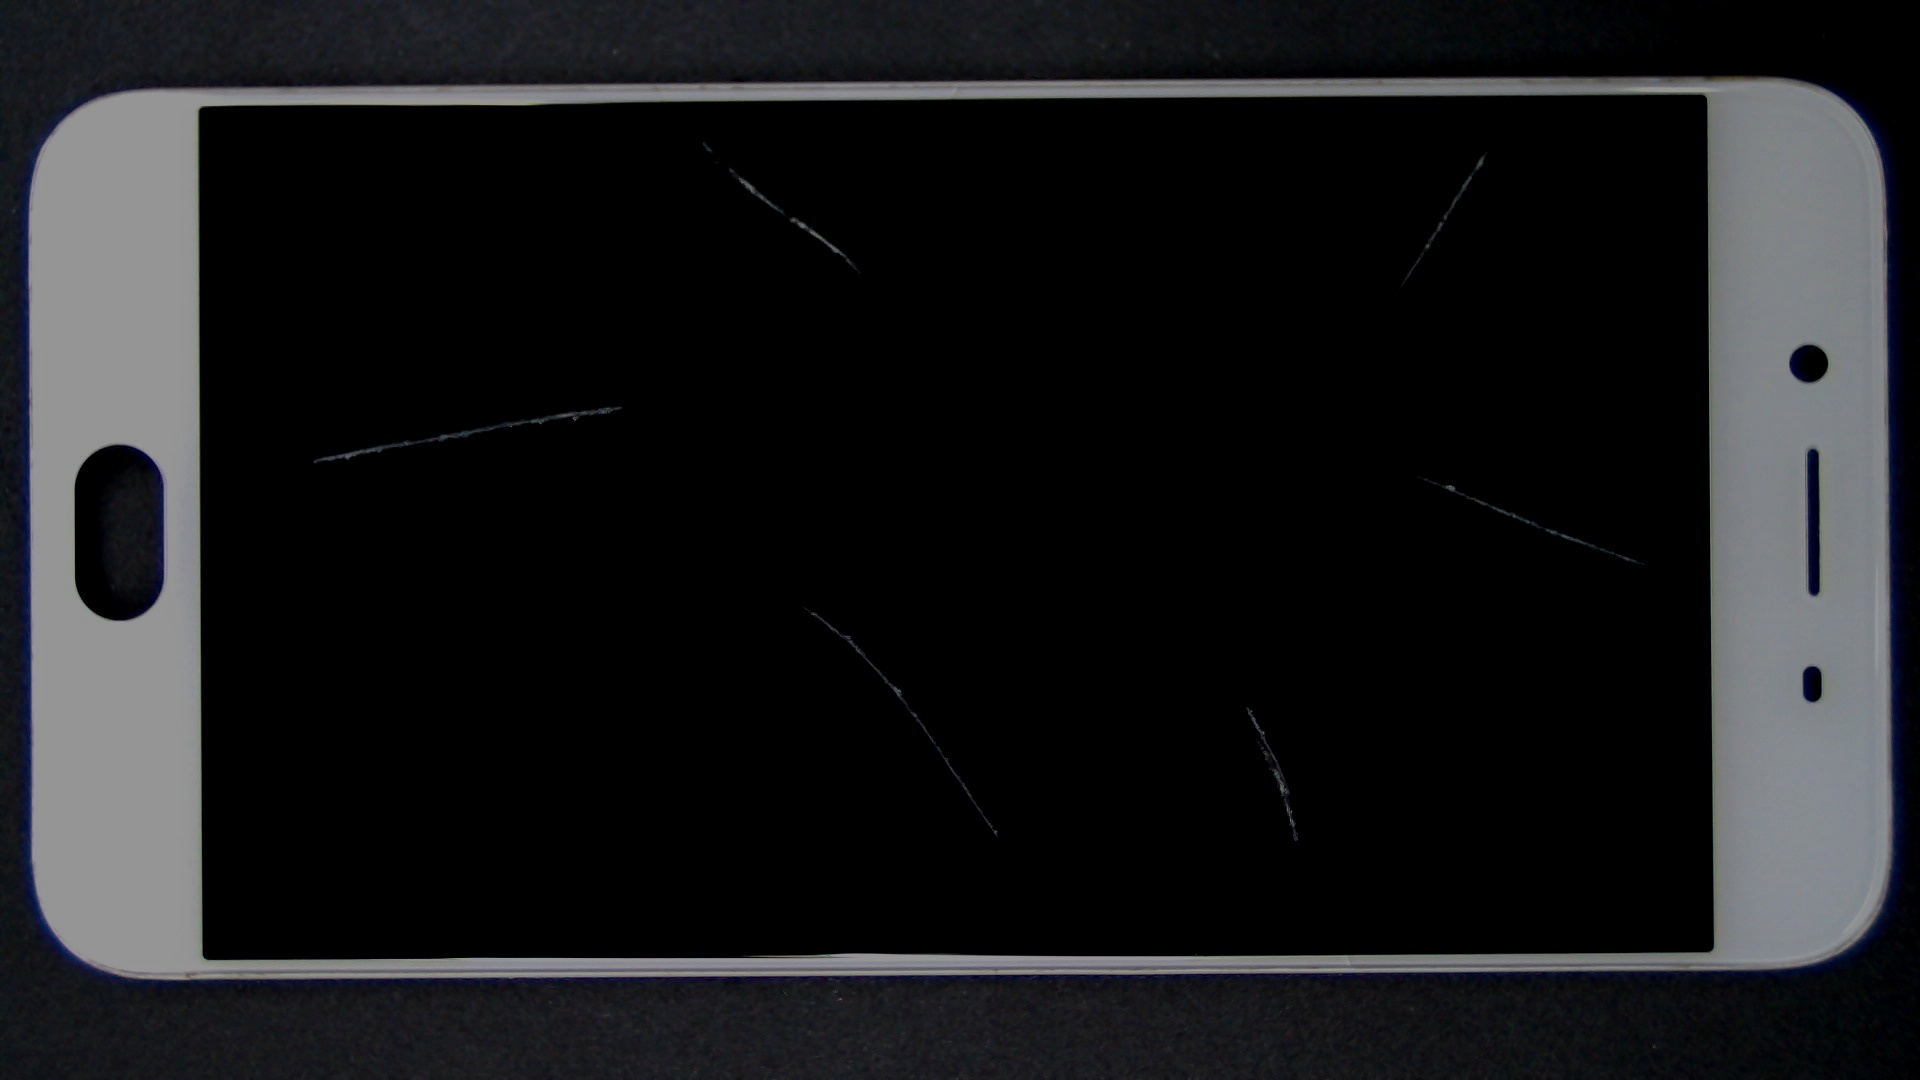oil: (622, 352, 1867, 1059), (709, 236, 1920, 712), (401, 301, 1201, 907), (311, 202, 931, 607), (745, 71, 1920, 222), (352, 69, 1052, 211)
